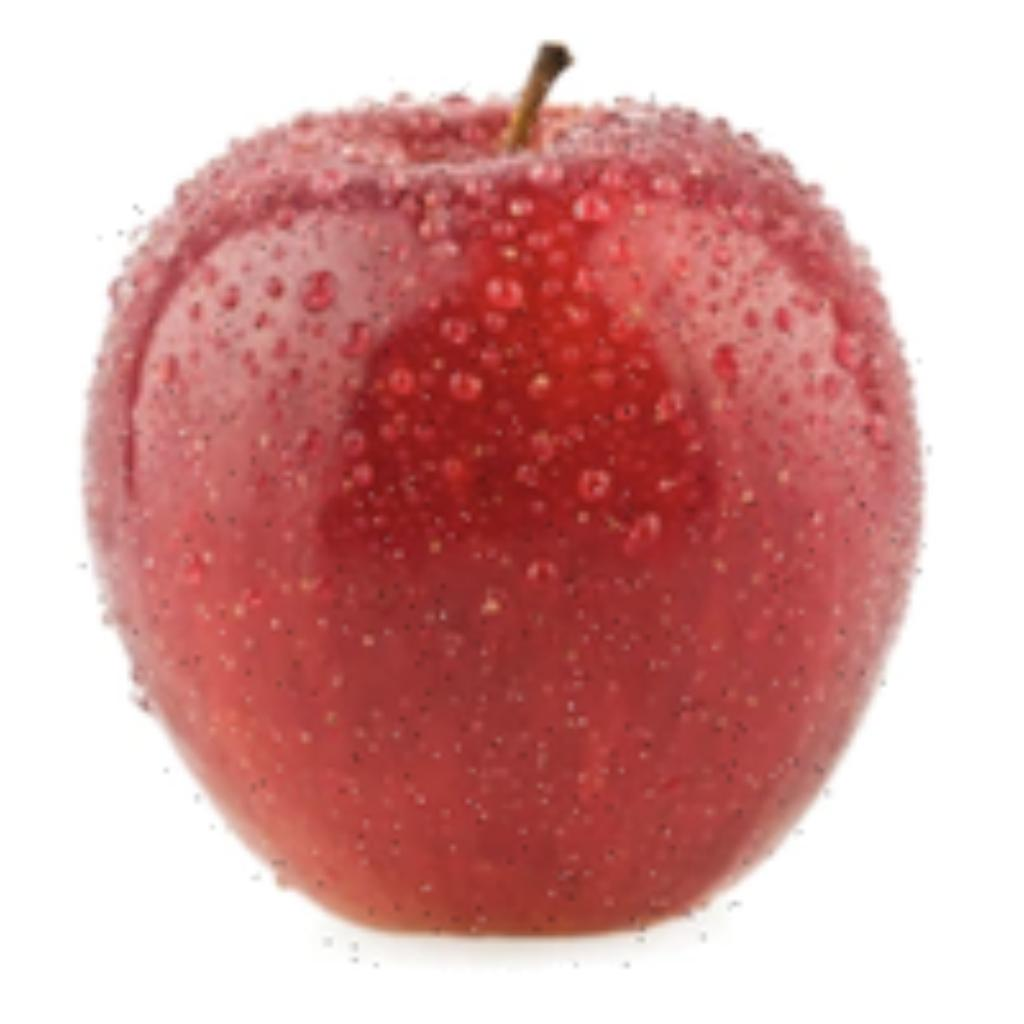apple: (72, 36, 932, 973)
